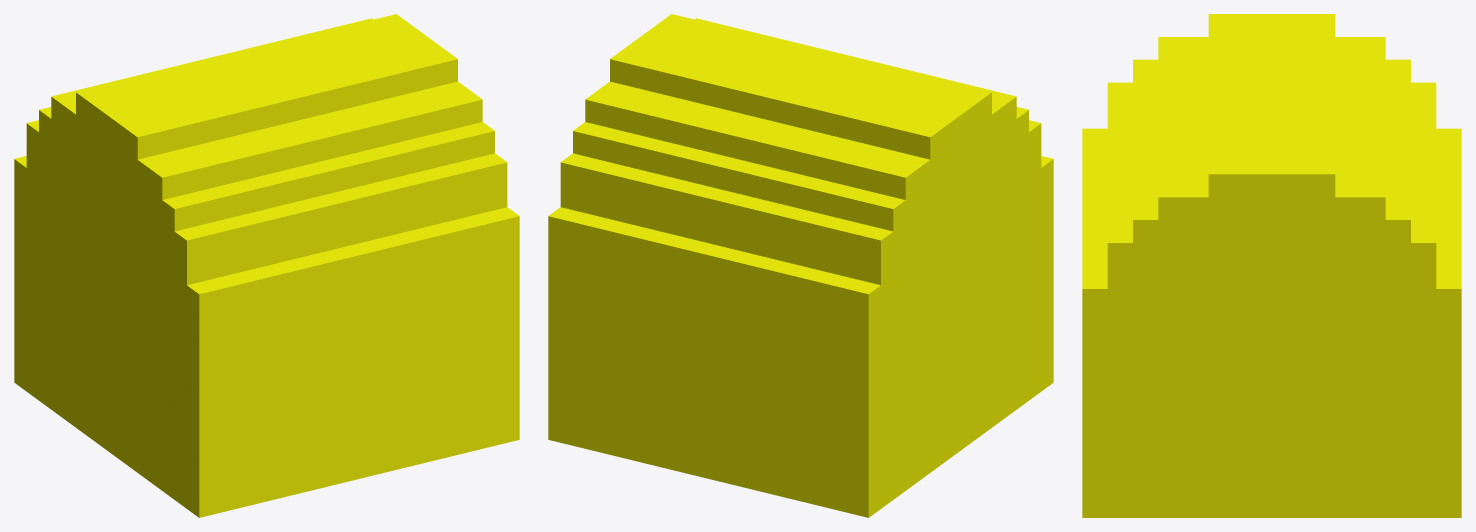
File: voxel-knights-chest.glb
3 views of the same model, side by side, from view 1: azimuth 30°, elevation 25°; view 2: azimuth 150°, elevation 25°; view 3: azimuth 270°, elevation 25° (orthographic). The views are drawn at different scales.
Parts seen in each view (by area): view 1: ObjObject.005; view 2: ObjObject.005; view 3: ObjObject.005.
Boxes of the visible parts, x1=… form: ObjObject.005: x1=14, y1=14, x2=519, y2=517; ObjObject.005: x1=548, y1=14, x2=1053, y2=517; ObjObject.005: x1=1082, y1=14, x2=1461, y2=517.
Bounding box in the file's own units: 1.5 × 1.5 × 1.5.
